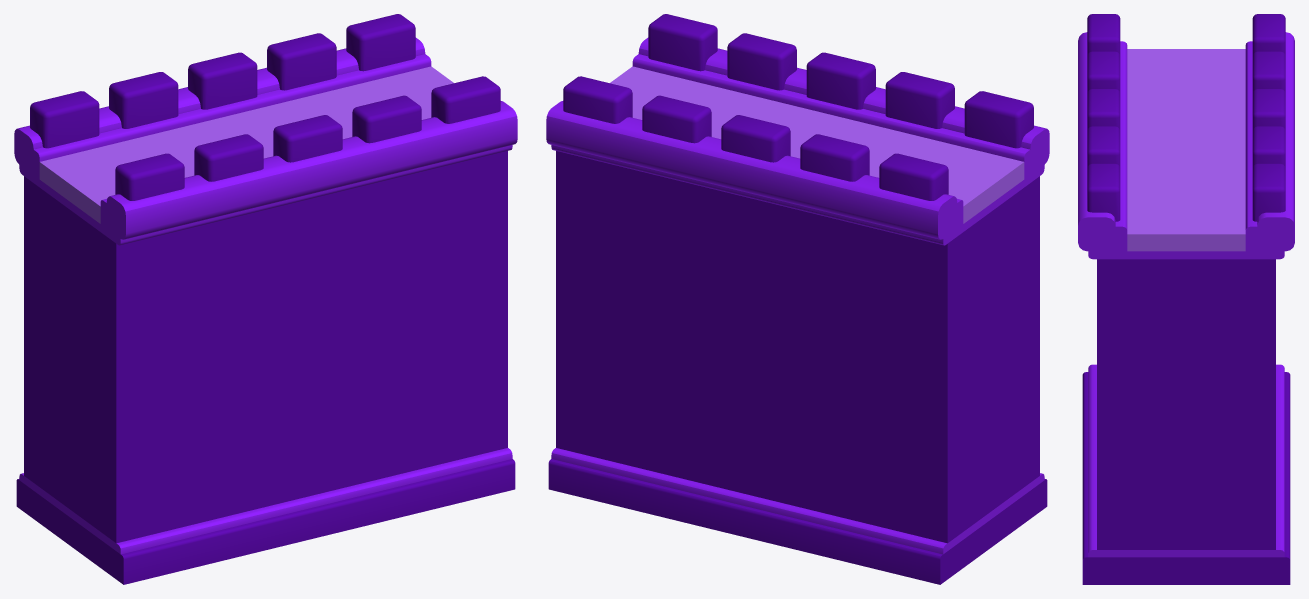
File: Thick wall straight (extra tall).fbx
3 views of the same model, side by side, from view 1: azimuth 30°, elevation 25°; view 2: azimuth 150°, elevation 25°; view 3: azimuth 270°, elevation 25° (orthographic). The views are drawn at different scales.
Parts seen in each view (by area): view 1: Plane.047; view 2: Plane.047; view 3: Plane.047.
Part boxes in pixels (x1=…): Plane.047: x1=14, y1=14, x2=517, y2=584; Plane.047: x1=546, y1=14, x2=1049, y2=584; Plane.047: x1=1078, y1=14, x2=1294, y2=584.
Size of the model in its own units: 99.94 by 98.48 by 49.41.
Materials: 1 (1 with a texture image).
